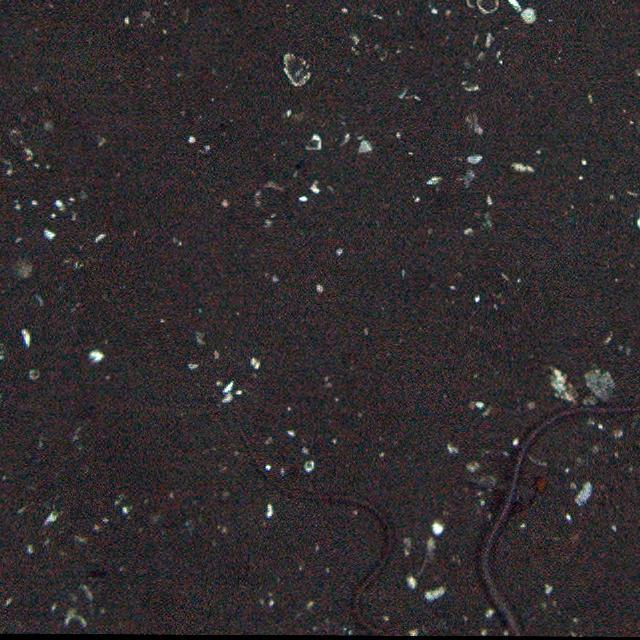eel: (238, 410, 638, 636)
